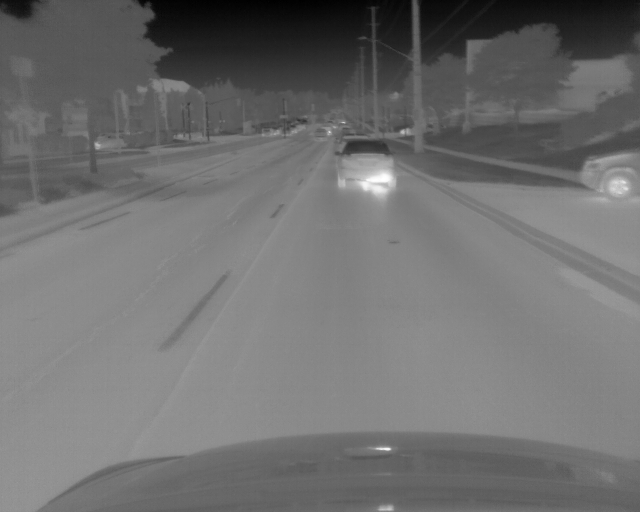car: (333, 138, 396, 194), (581, 147, 640, 200), (313, 128, 327, 141)
